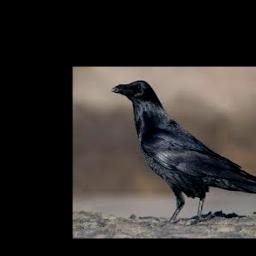Crow: (111, 79, 256, 222)
